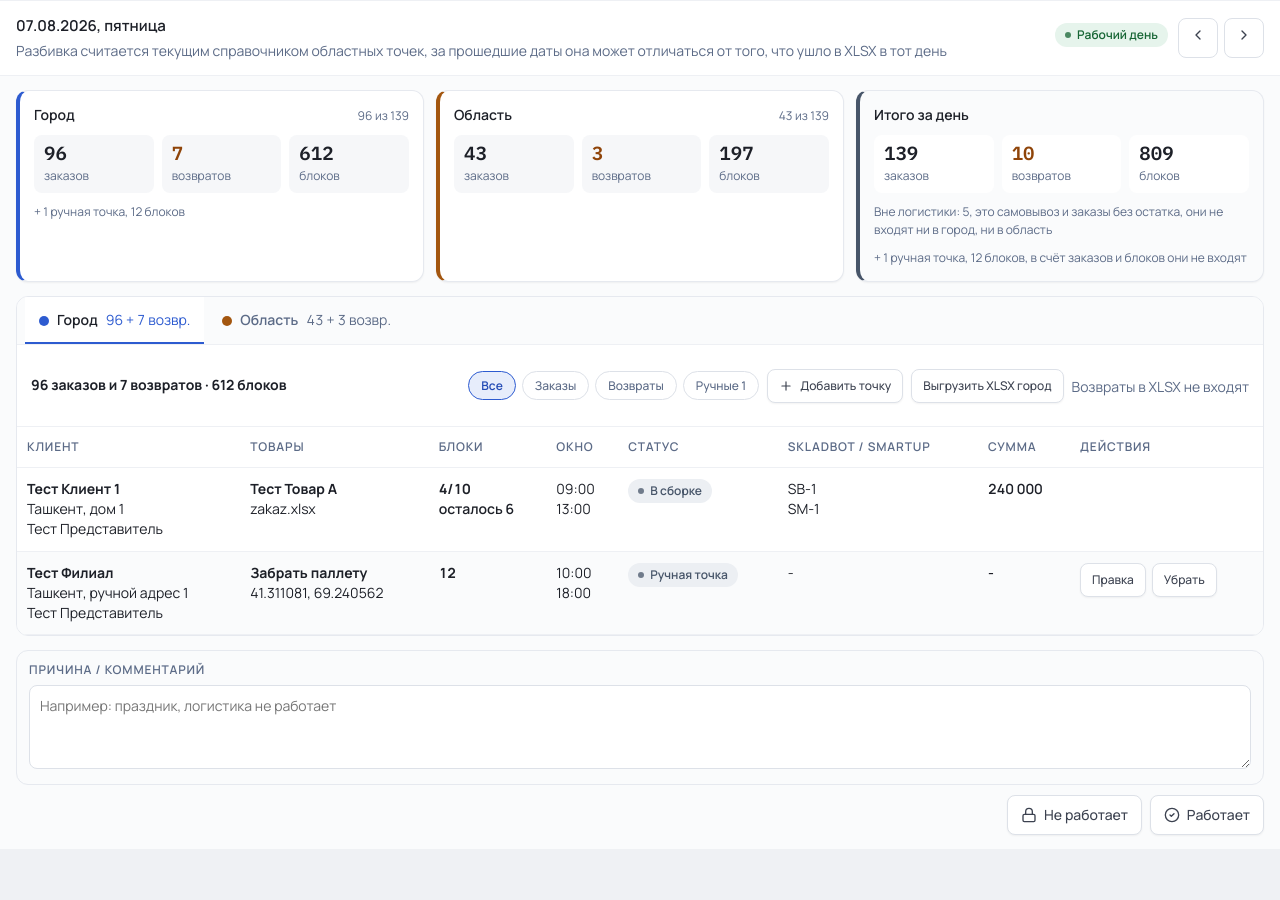
Scenario: CalendarDayDetail › ручные точки › фильтр «Ручные» прячет заказы и оставляет только ручные точки
Click the button "Ручные 1" at point(721, 386), box x1=683 y1=371 x2=759 y2=400
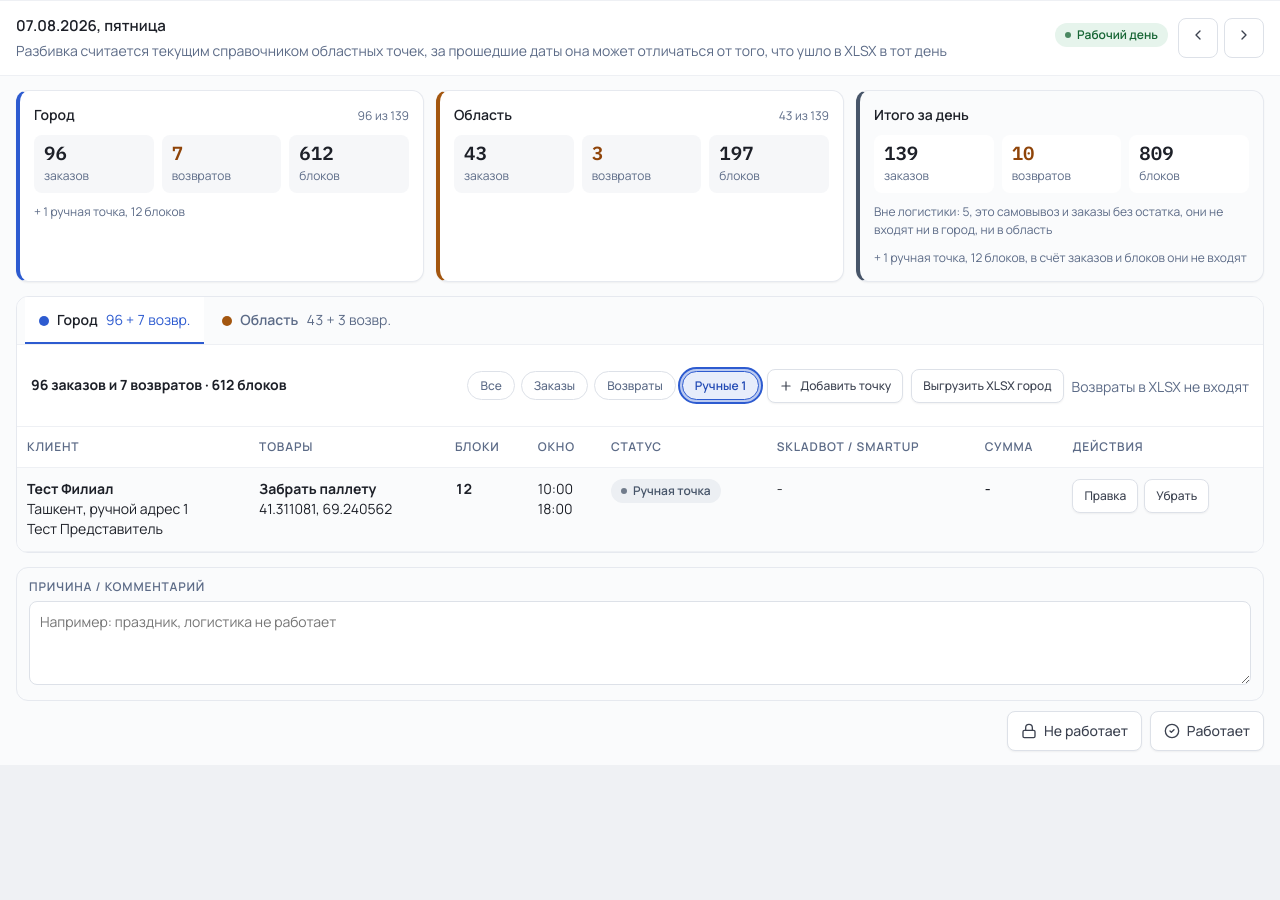
Expected: the text "Тест Филиал" is shown, x1=27 y1=479 x2=114 y2=498
Now the text "Тест Клиент 1" is gone
